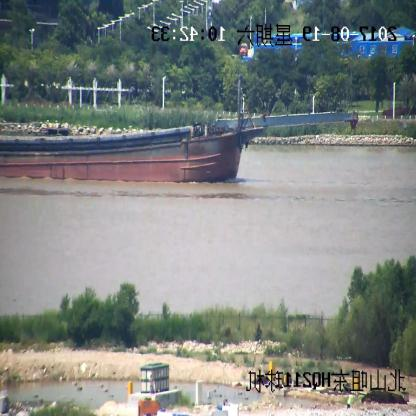Bulk Carrier: (0, 77, 358, 183)
